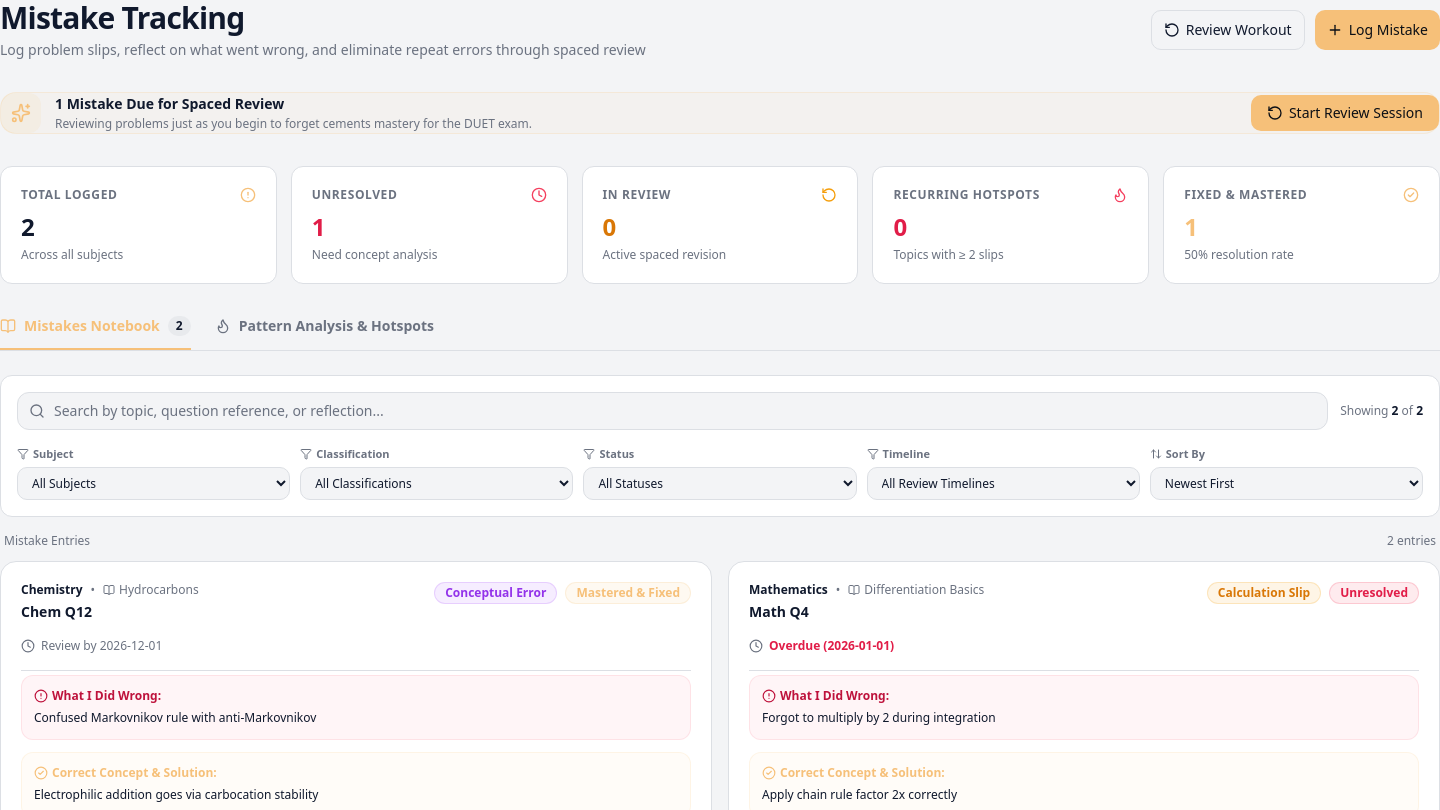
Test case: MistakesPage › filters mistakes by search query input
The width and height of the screenshot is (1440, 810).
Check: the text "Differentiation Basics" is shown, box [864,582,984,598]
Type "Markovnikov" into the field with placeholder "Search by topic, question reference, or reflection...".
click(673, 411); type("Markovnikov")  # box [17,392,1328,430]
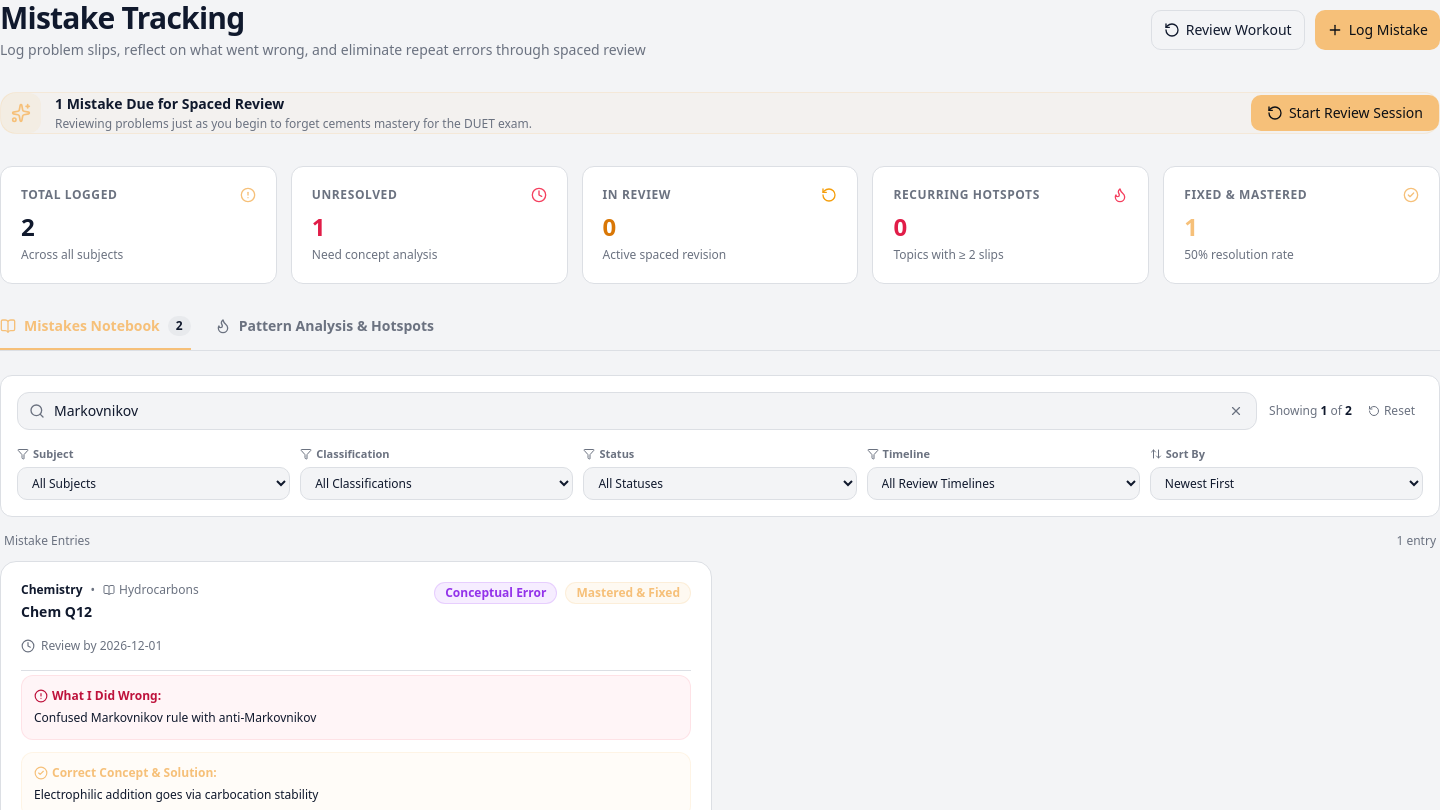
Check: the text "Hydrocarbons" is shown, box [119,582,199,598]
Check: the text "Differentiation Basics" is gone
